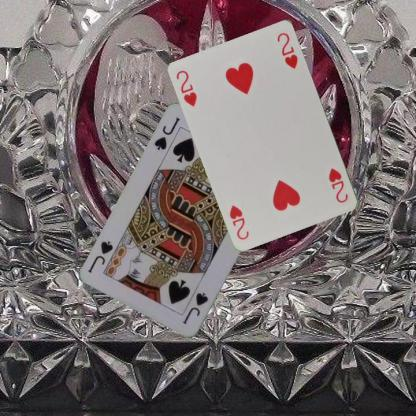2h: (174, 68, 199, 108), (326, 166, 350, 204)
Js: (152, 115, 182, 152), (180, 290, 210, 326)
